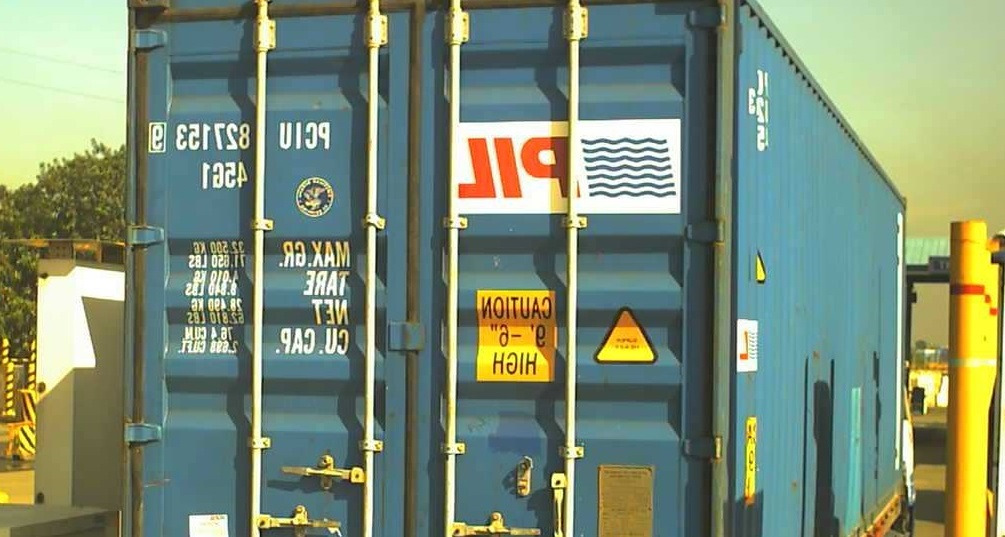container_door: (125, 1, 723, 537)
